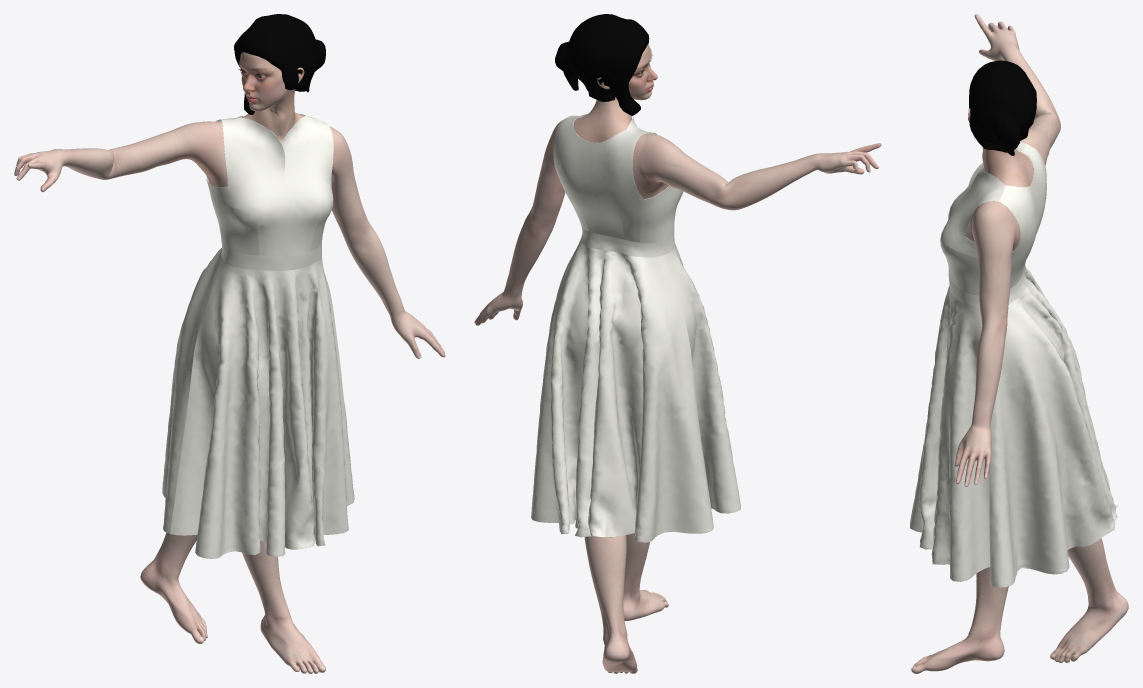
File: Custom_View_7__Dynamic.obj
3 renders of one model, left to right at view 1: azimuth 30°, elevation 25°; view 2: azimuth 150°, elevation 25°; view 3: azimuth 270°, elevation 25°, orthographic. The views are drawn at different scales.
Bounding box in the file's own units: 1226 × 1775 × 572.
